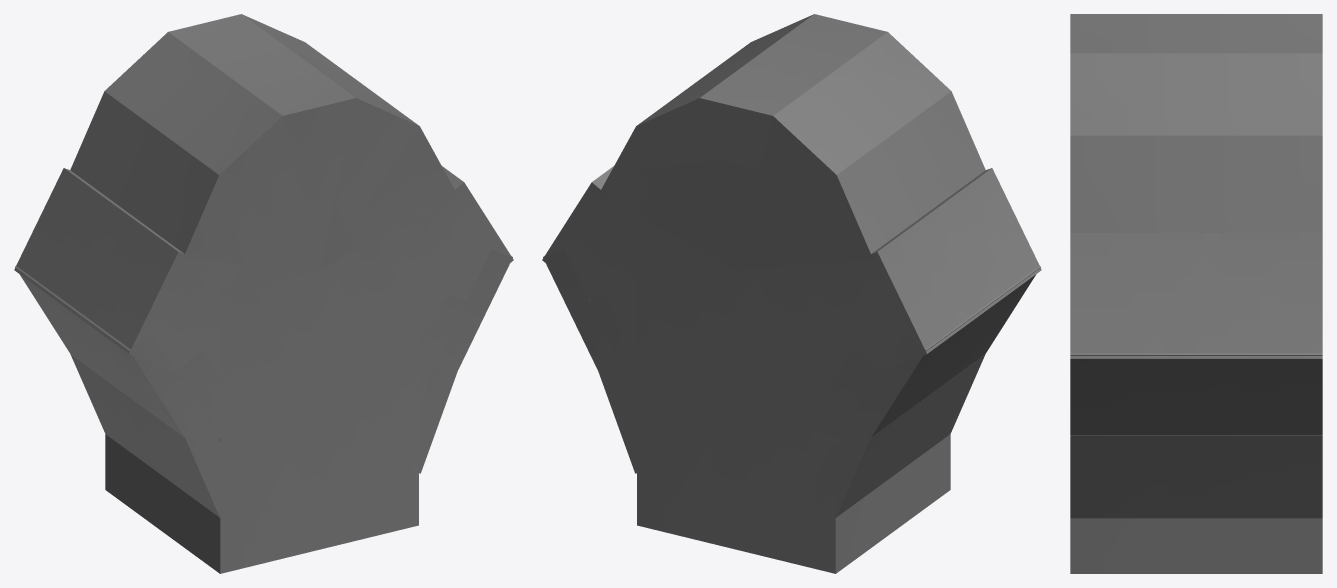
File: dc_metro_roof_d1p.obj
3 renders of one model, left to right at view 1: azimuth 30°, elevation 25°; view 2: azimuth 150°, elevation 25°; view 3: azimuth 270°, elevation 25°, orthographic. The views are drawn at different scales.
Parts seen in each view (by area): view 1: part1p; view 2: part1p; view 3: part1p.
Part boxes in pixels (<box>): part1p: <box>14,14,513,573</box>; part1p: <box>542,14,1041,573</box>; part1p: <box>1070,14,1322,573</box>.
Bounding box in the file's own units: 1.94 × 2.13 × 1.
Materials: 1 (1 with a texture image).
